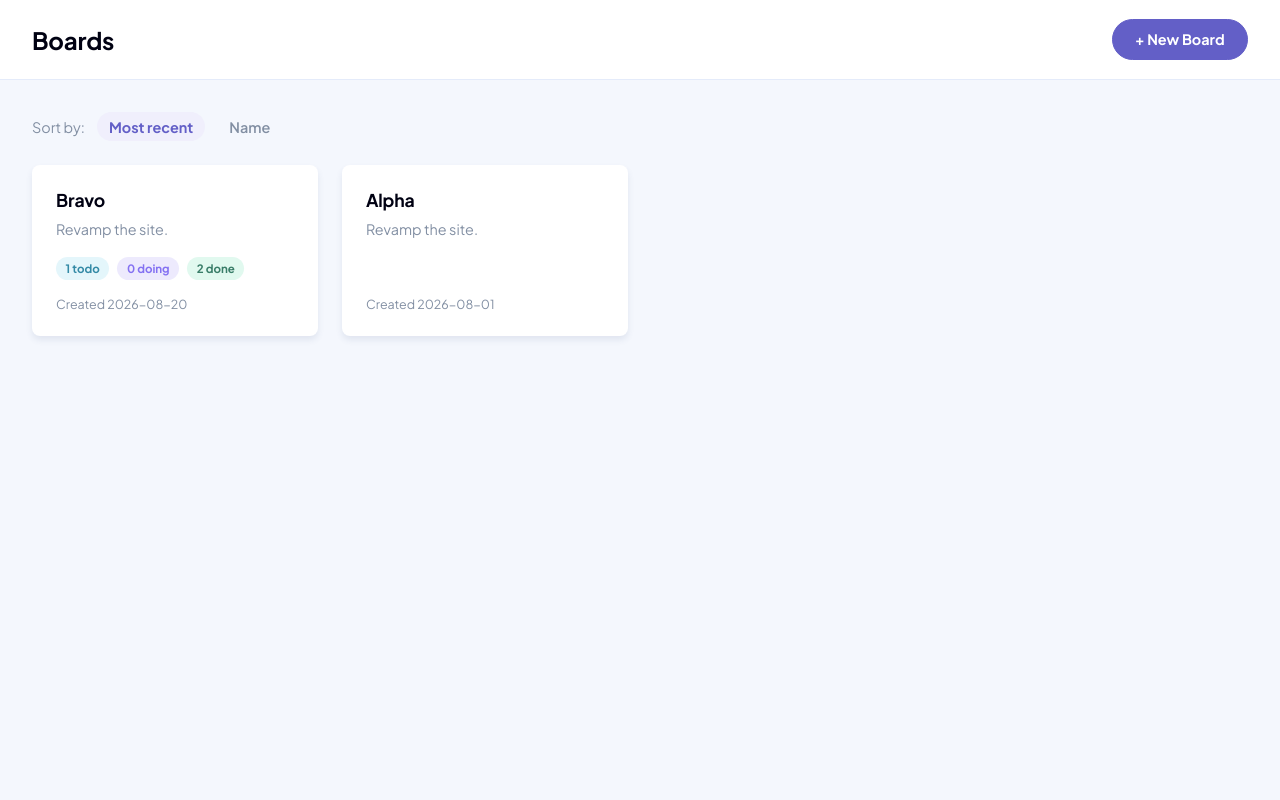
Test: BoardListComponent (services mocked) › creating a board › keeps the modal open and shows the error when the request fails
Click the button "+ New Board": x=1180, y=40 [1112,19,1248,60]
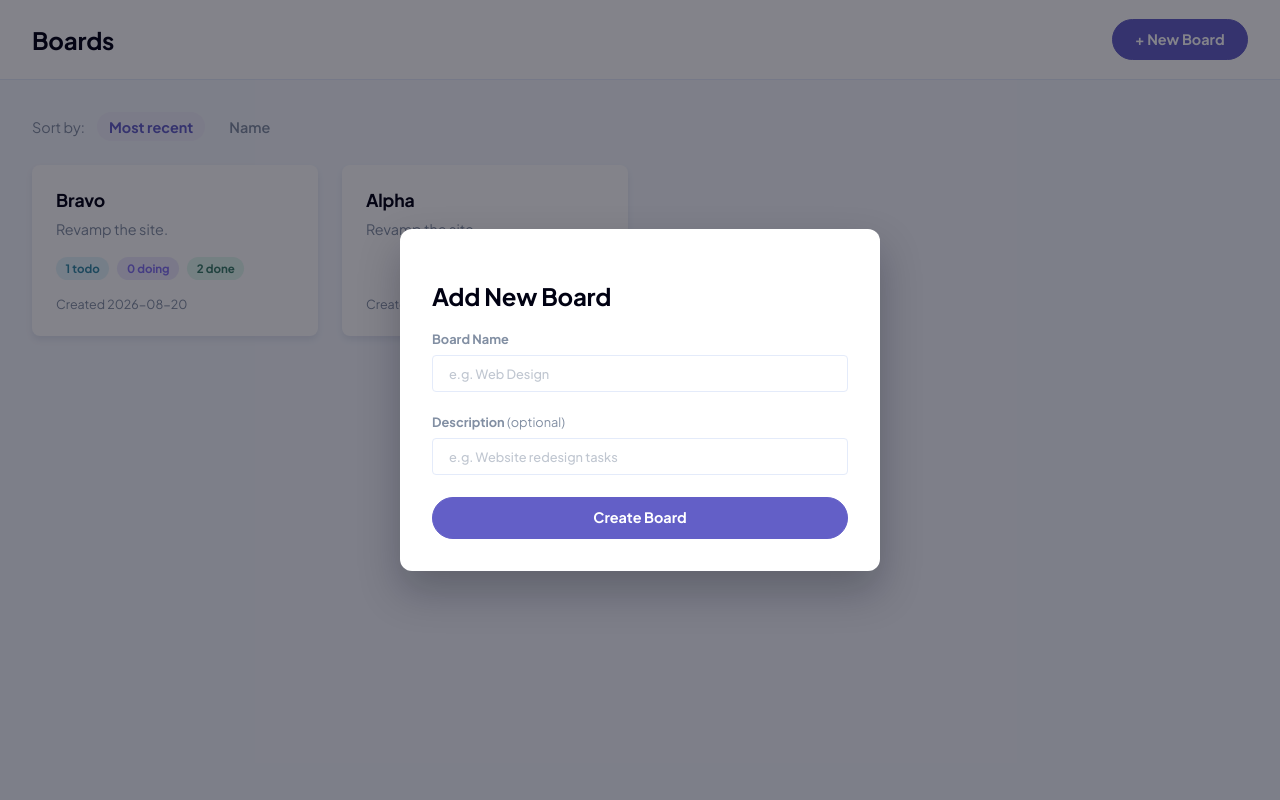
In the field with id "board-name": x=640, y=374 [432,355,848,392], type "Fresh"
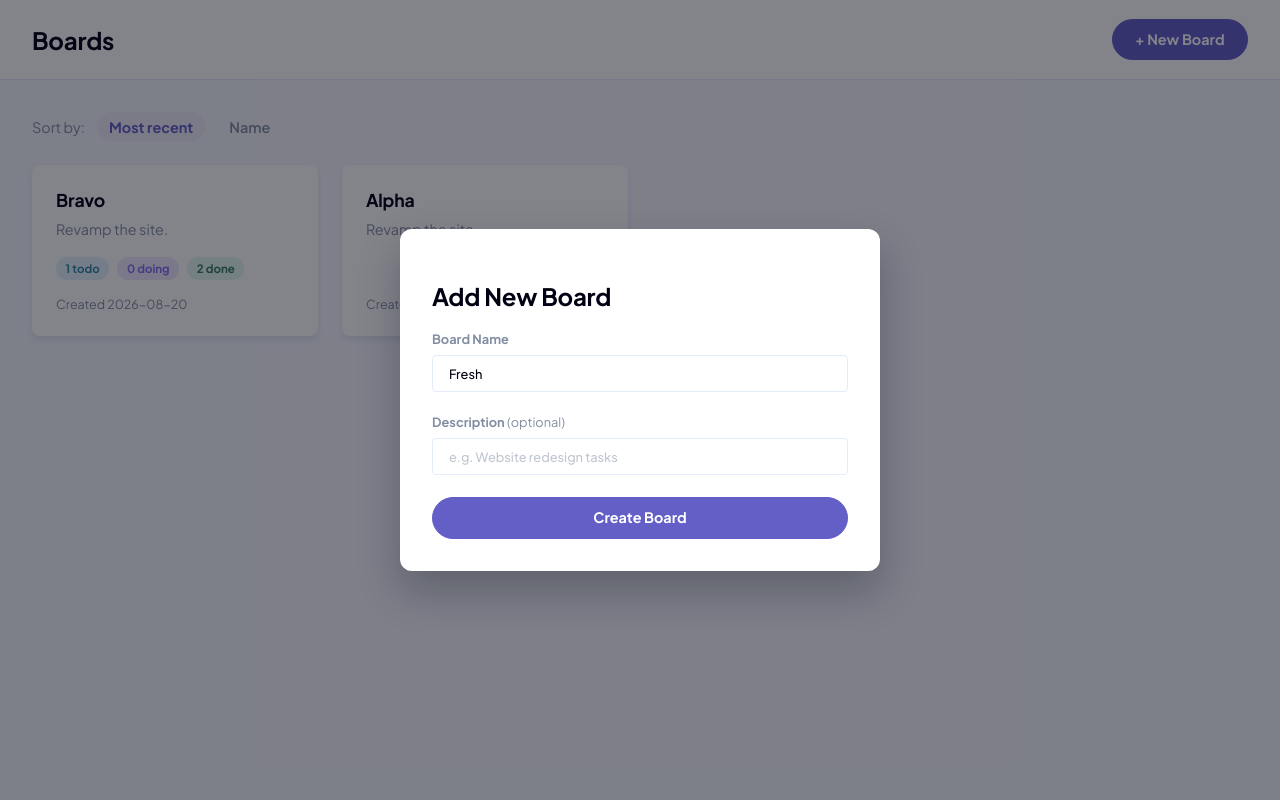
Submit the form, box [400,230,880,570]
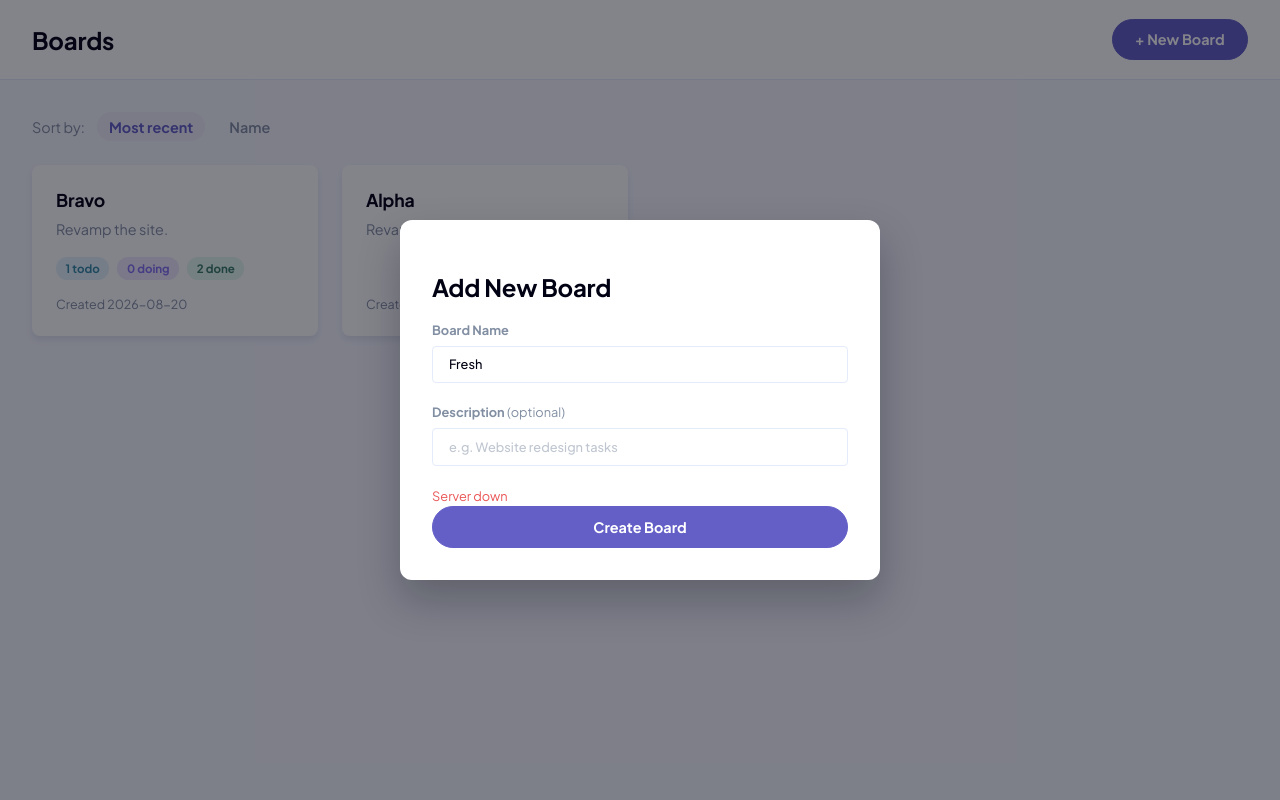
Check: the element with class "modal-backdrop" shows "Server down", box [432,488,508,504]
